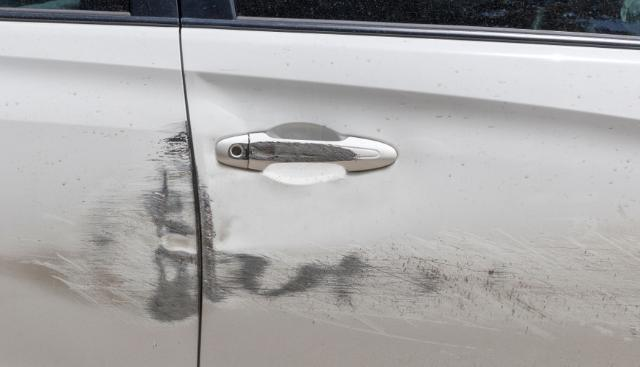Door: (184, 88, 640, 364), (4, 90, 200, 364)
